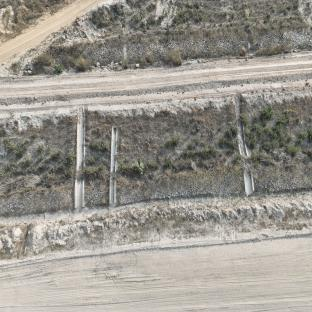rock_toe: (117, 170, 243, 203), (1, 185, 73, 215), (254, 161, 312, 189), (86, 185, 107, 205)
slope_drain: (234, 95, 255, 200), (74, 109, 87, 209), (107, 126, 118, 205)
toe_drain: (0, 188, 312, 228)
vegetation: (125, 128, 235, 174), (251, 111, 311, 162)
